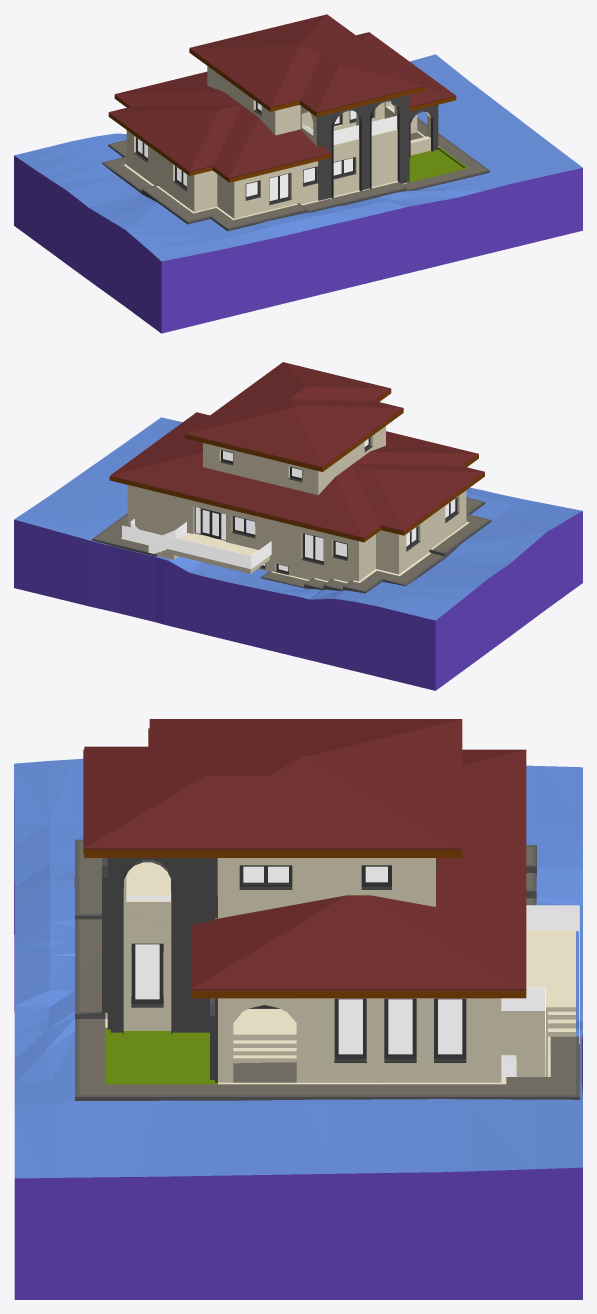
Rendered from casaBacau_outerShell.glb.
The picture shows the model from 3 angles, top to bottom: view 1: azimuth 30°, elevation 25°; view 2: azimuth 150°, elevation 25°; view 3: azimuth 270°, elevation 25°; orthographic projection. The views are drawn at different scales.
Parts seen in each view (by area): view 1: Tigla rosie - ondulata.005, Vopsea - antracit.023, Balstrada-02.001; view 2: Tigla rosie - ondulata.005, Balustrada-01.001; view 3: Tigla rosie - ondulata.005, Vopsea - antracit.023, Balustrada-01.001.
Part boxes in pixels (x1,y1,x2,y2): Tigla rosie - ondulata.005: [14, 14, 582, 333]; Vopsea - antracit.023: [317, 94, 438, 200]; Balstrada-02.001: [303, 103, 396, 144]; Tigla rosie - ondulata.005: [14, 362, 582, 690]; Balustrada-01.001: [122, 519, 271, 569]; Tigla rosie - ondulata.005: [14, 719, 582, 1299]; Vopsea - antracit.023: [102, 858, 217, 1082]; Balustrada-01.001: [501, 905, 579, 1076].
Bounding box in the file's own units: 33.06 × 13.48 × 20.02.
